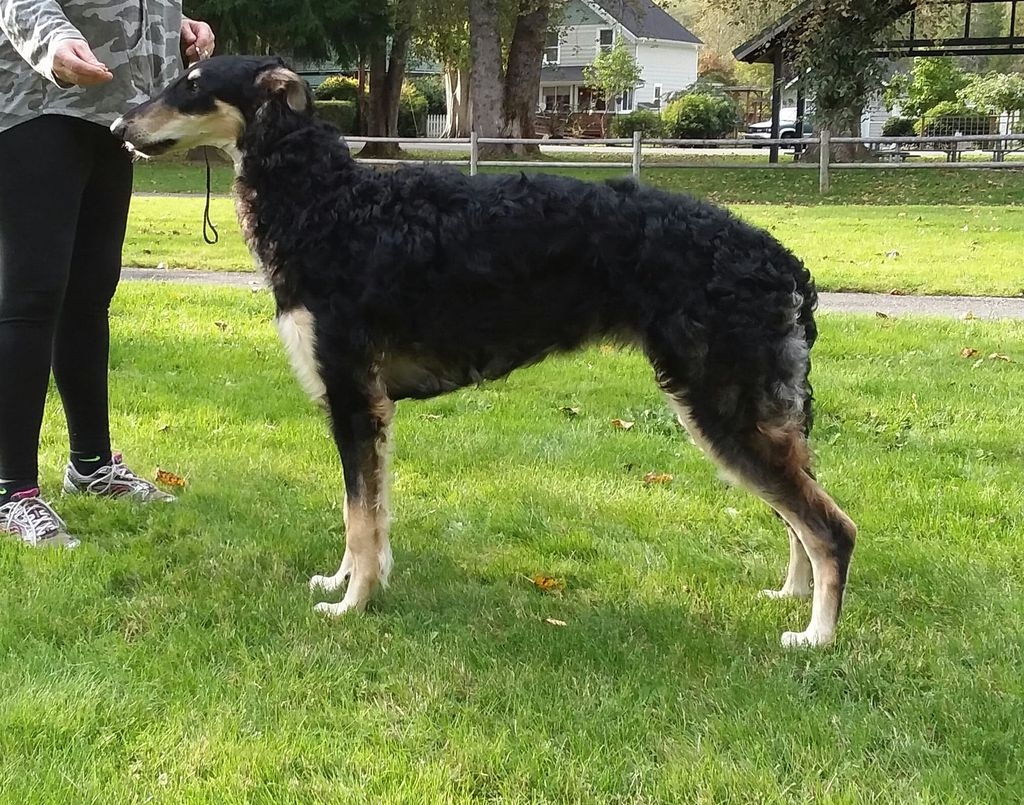borzoi: (108, 52, 862, 658)
